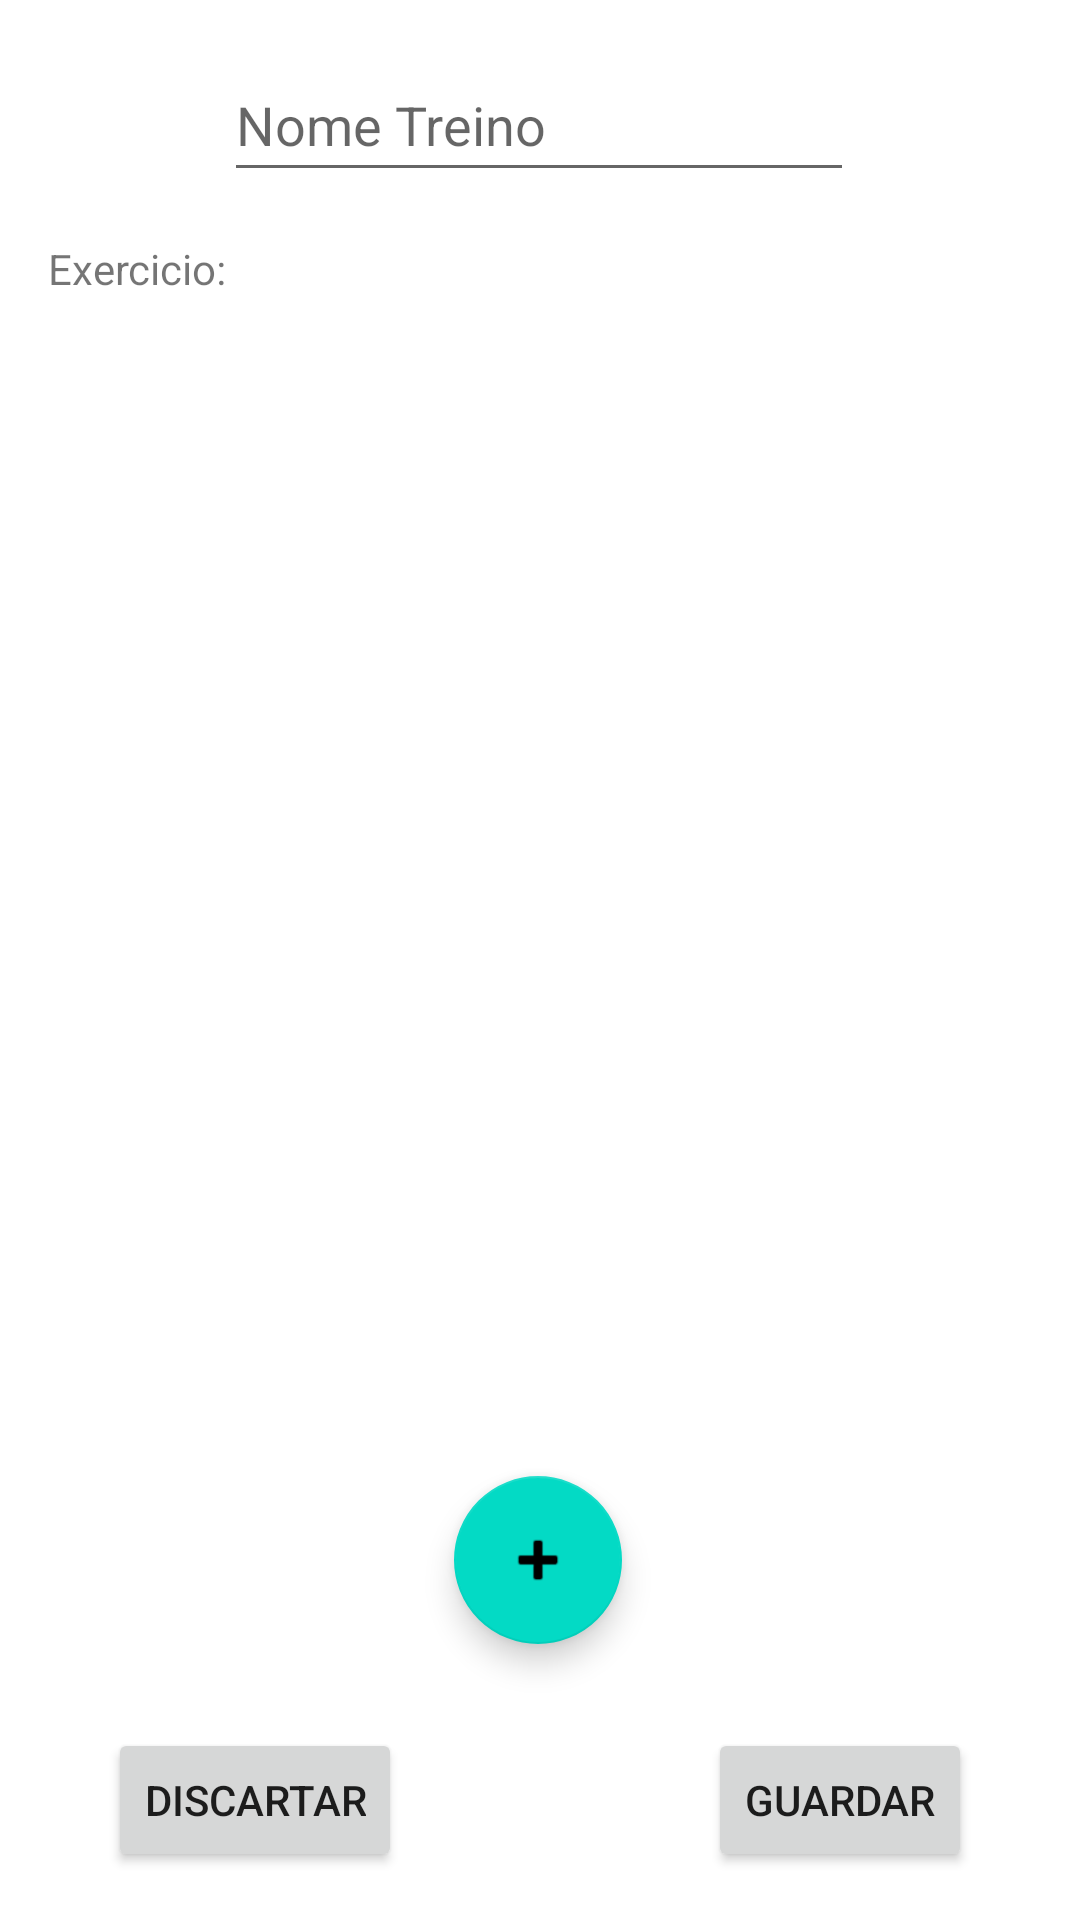

Named icons in this screenshot (1080x1920) and their bounding boxes, detection(x1, y1, x2, y2):
add: detection(454, 1476, 622, 1644)
